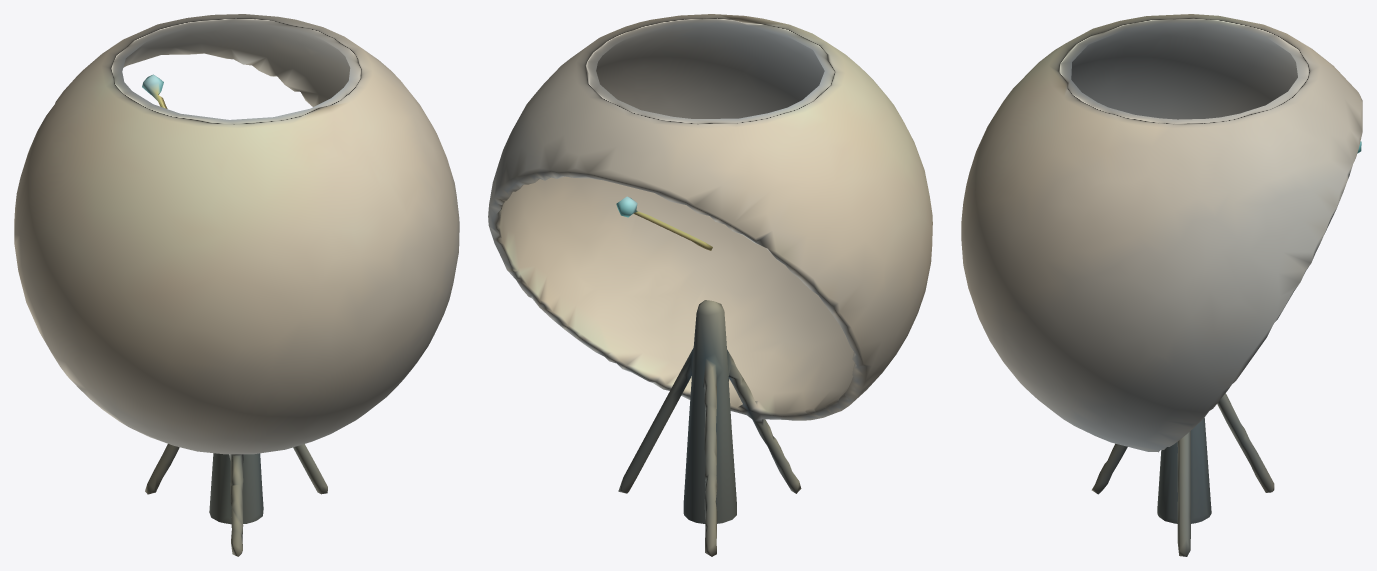
The model's file is env_st_dish.glb.
3 renders of one model, left to right at view 1: azimuth 30°, elevation 25°; view 2: azimuth 150°, elevation 25°; view 3: azimuth 270°, elevation 25°, orthographic.
Visible parts, largest first — view 1: geometry_0; view 2: geometry_0; view 3: geometry_0.
Part boxes in pixels (left/top/right/bottom): geometry_0: left=14, top=14, right=459, bottom=556; geometry_0: left=488, top=14, right=932, bottom=556; geometry_0: left=961, top=14, right=1362, bottom=556.
Bounding box in the file's own units: 4.94 × 5.42 × 4.45.
